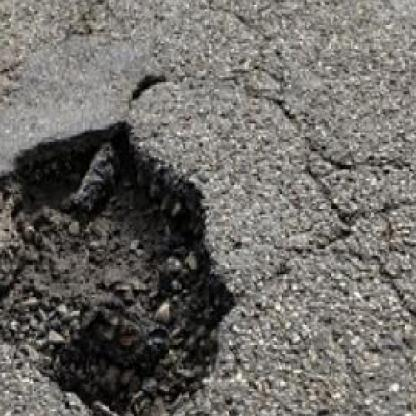pothole: (0, 121, 241, 401)
